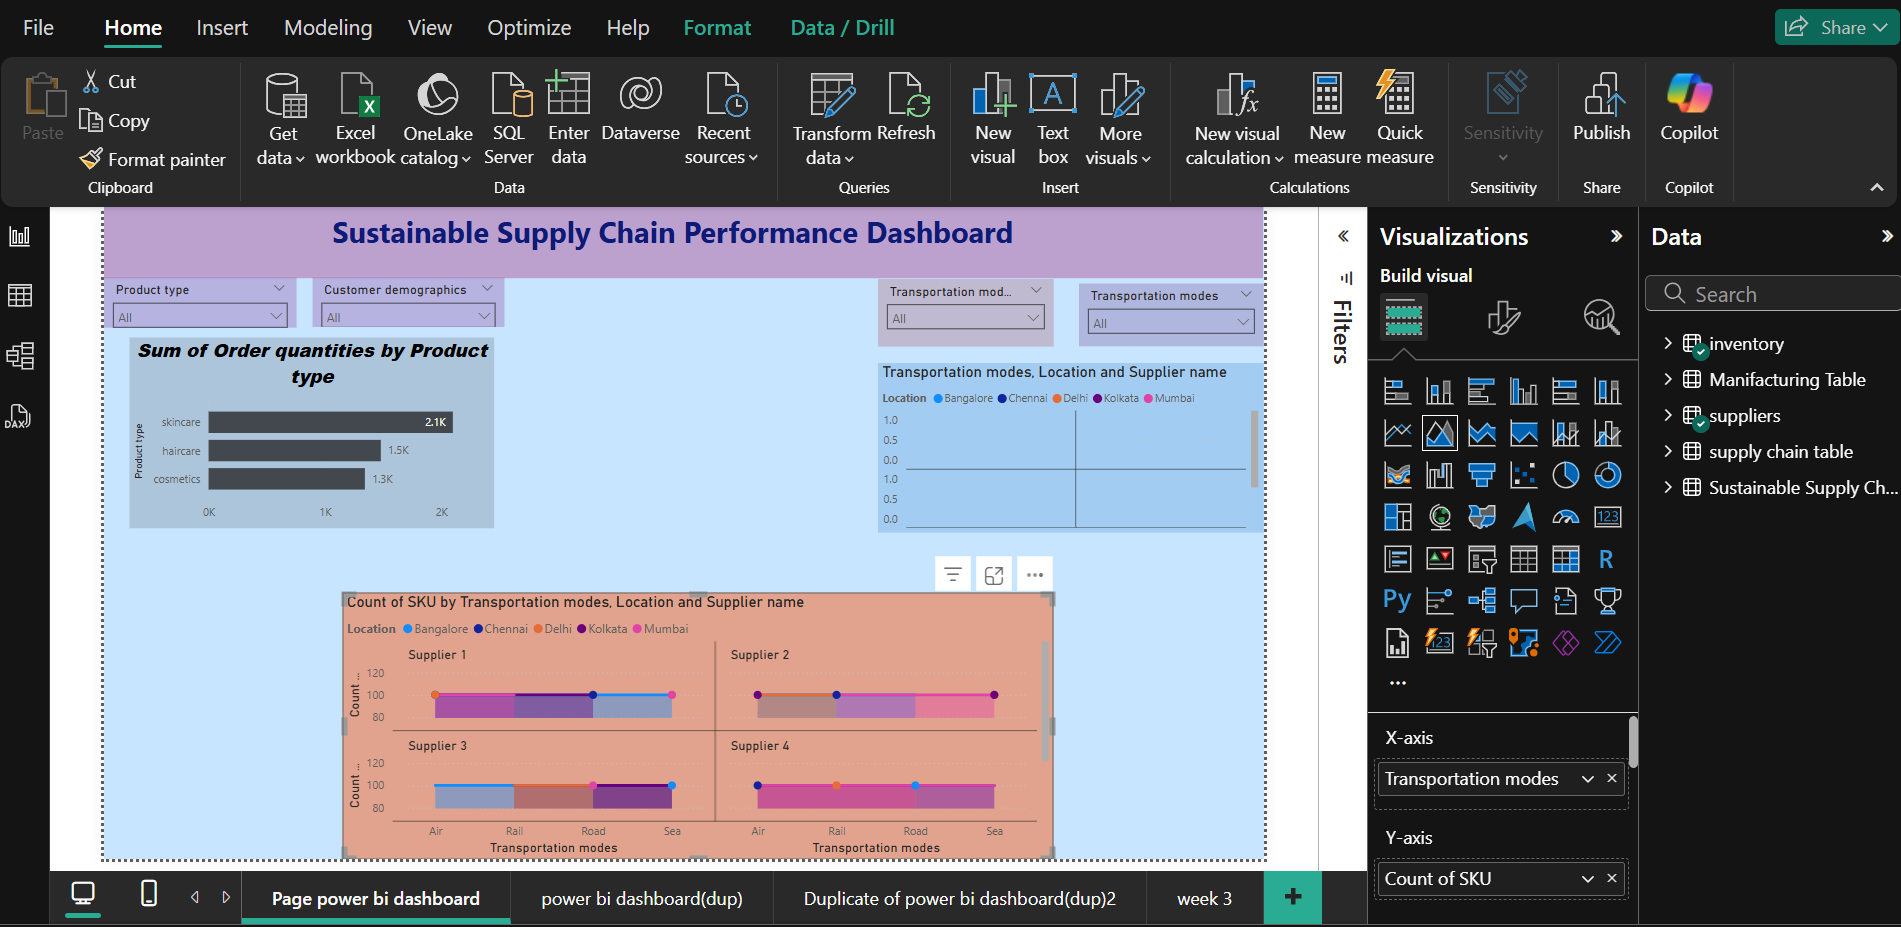

The page's visual inventory and layout, read from the dashboard file:
{"tool":"powerbi","page":{"name":"Page power bi dashboard","canvas":[1280,720],"ordinal":0},"visuals":[{"type":"textbox","box":[0,0,1280,78.3],"z":0},{"type":"slicer","fields":{"Values":["inventory.Product type"]},"box":[0,77.5,212.5,55],"z":1000},{"type":"slicer","fields":{"Values":["inventory.Customer demographics"]},"box":[230.3,77.9,212,54.7],"z":2000},{"type":"barChart","fields":{"Category":["inventory.Product type"],"Y":["Sum(inventory.Order quantities)"]},"box":[28.2,144.1,402.5,210.4],"z":3000},{"type":"slicer","fields":{"Values":["suppliers.Transportation modes"]},"box":[854.7,79.5,193.8,74.5],"z":4000},{"type":"slicer","fields":{"Values":["suppliers.Transportation modes"]},"box":[1076.7,84.5,203.7,69.6],"z":5000},{"type":"clusteredColumnChart","fields":{"Category":["suppliers.Transportation modes"],"Series":["suppliers.Location"],"Rows":["suppliers.Supplier name"]},"box":[854.7,172.3,425.7,187.2],"z":6000},{"type":"areaChart","fields":{"Category":["suppliers.Transportation modes"],"Series":["suppliers.Location"],"Rows":["suppliers.Supplier name"],"Y":["CountNonNull(inventory.SKU)"]},"box":[263.4,425.7,785.2,294.9],"z":7000}]}

Visuals, with their boxes on the page's 1280x720 design canvas (x1, y1, x2, y2). These are canvas units, not pixel positions in the 1901x927 screenshot, which may show the page scaled, cropped or inside an application window:
textbox: region(0, 0, 1280, 78)
slicer - inventory.Product type: region(0, 78, 212, 132)
slicer - inventory.Customer demographics: region(230, 78, 442, 133)
barChart - inventory.Product type x Sum(inventory.Order quantities): region(28, 144, 431, 354)
slicer - suppliers.Transportation modes: region(855, 80, 1048, 154)
slicer - suppliers.Transportation modes: region(1077, 84, 1280, 154)
clusteredColumnChart - suppliers.Transportation modes x suppliers.Location: region(855, 172, 1280, 360)
areaChart - suppliers.Transportation modes x suppliers.Location: region(263, 426, 1049, 721)
